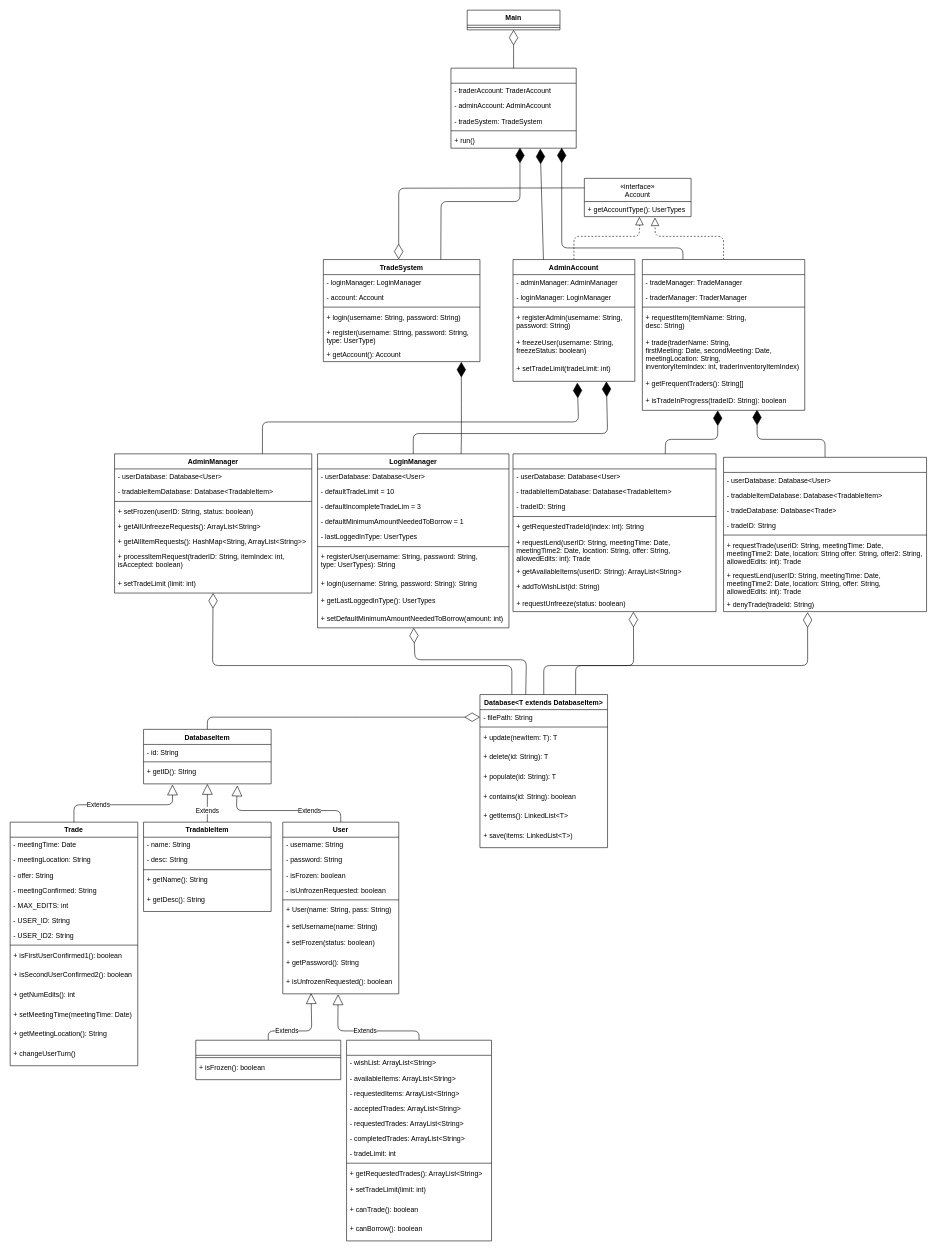
Image size: 937x1253. Some labels were removed from this diagram. Each missing label, with the box of its shape:
Admin: (195, 1040, 341, 1080)
TextInterface: (450, 68, 576, 148)
TradeManager: (723, 457, 927, 612)
Trader: (346, 1040, 492, 1241)
TraderAccount: (642, 259, 805, 410)
TraderManager: (512, 453, 716, 612)
